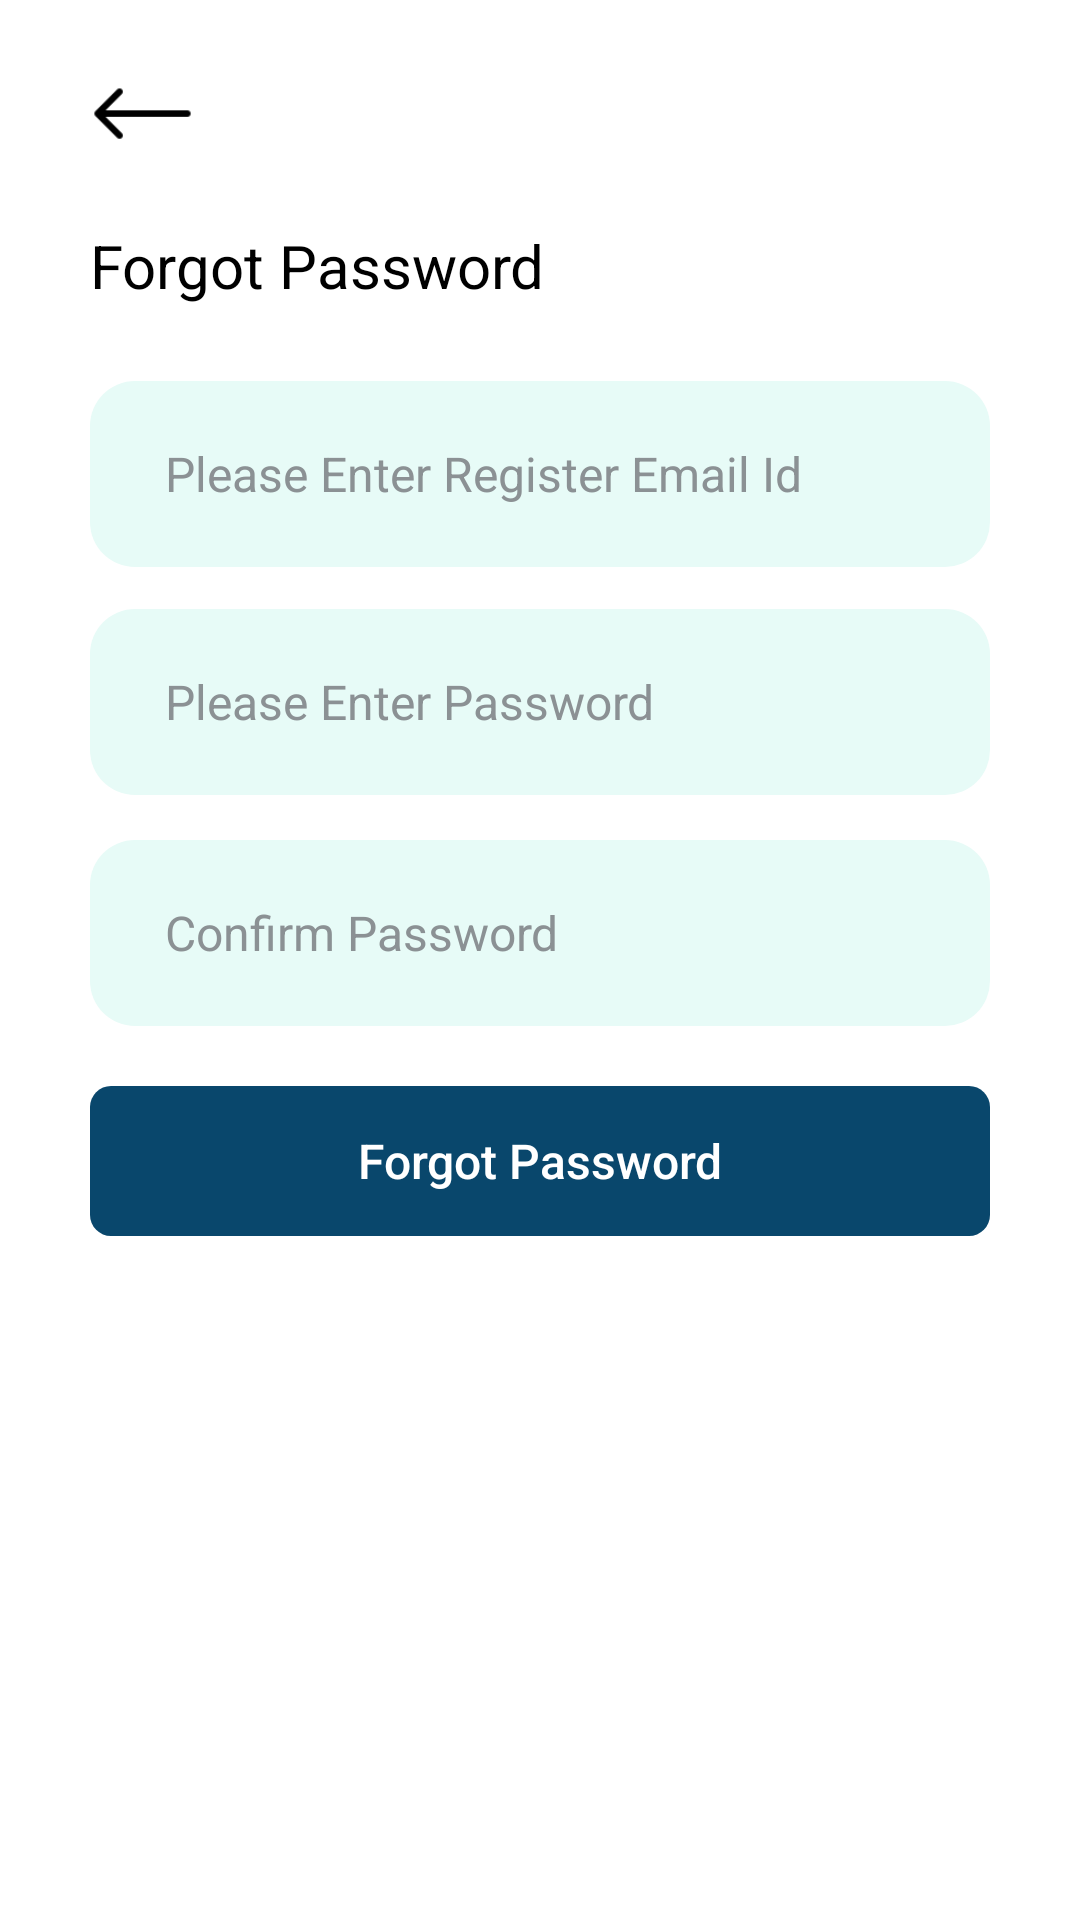

Screen size 1080px x 1920px. Icon name, then its box in pixels as [x1, y1, x2, y2]:
longarrow: [94, 88, 191, 139]
